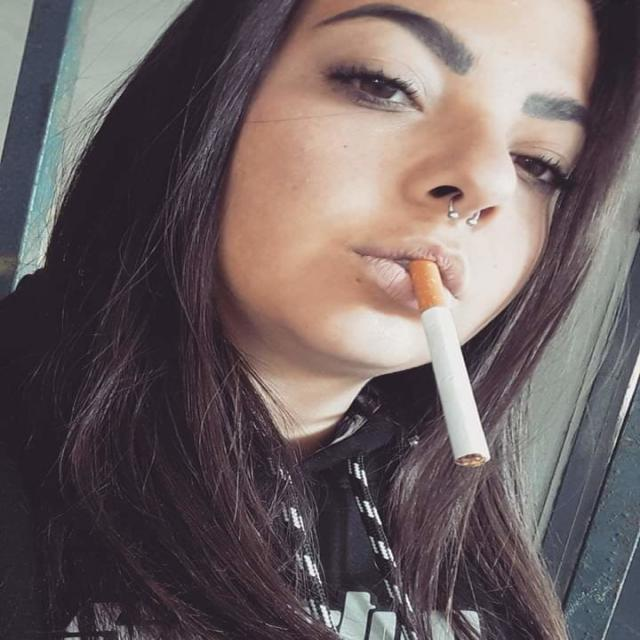cigarette: (394, 252, 498, 470)
